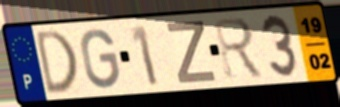1: (130, 23, 161, 88)
3: (260, 12, 298, 80)
D: (33, 27, 80, 98)
G: (79, 26, 122, 91)
R: (211, 16, 267, 81)
Z: (165, 20, 219, 86)
